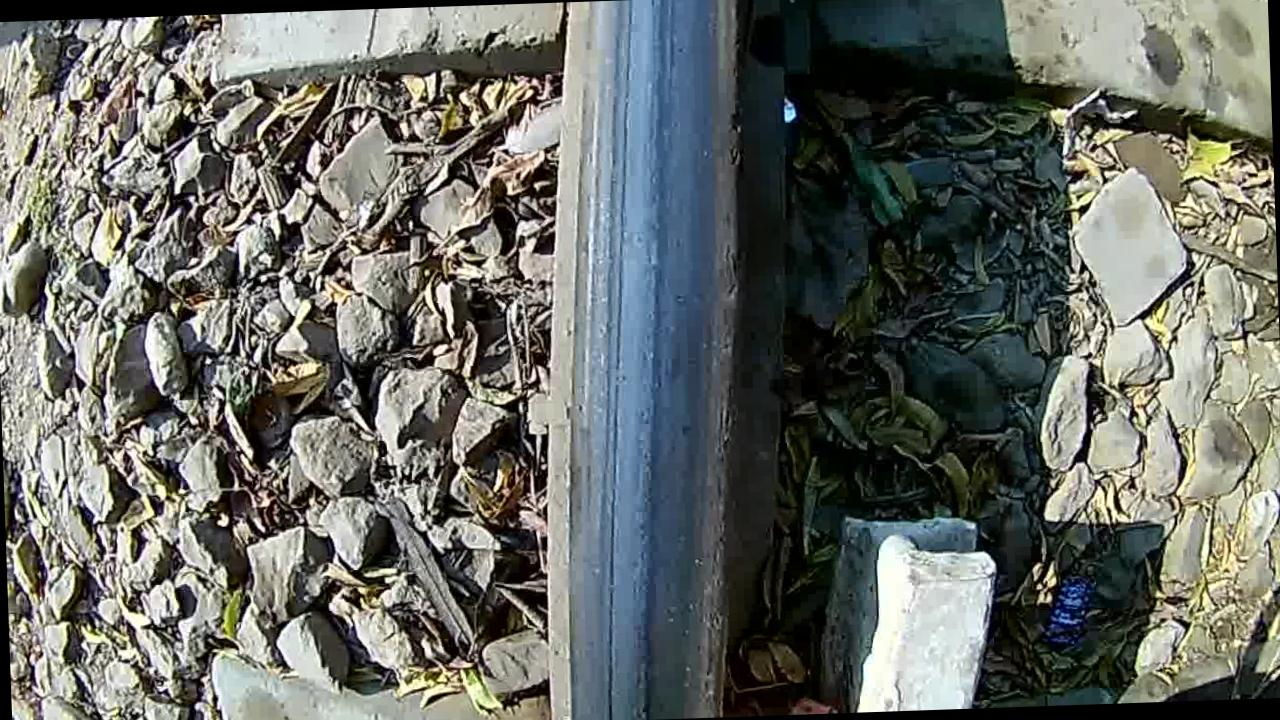clip_missing: (539, 0, 771, 720)
